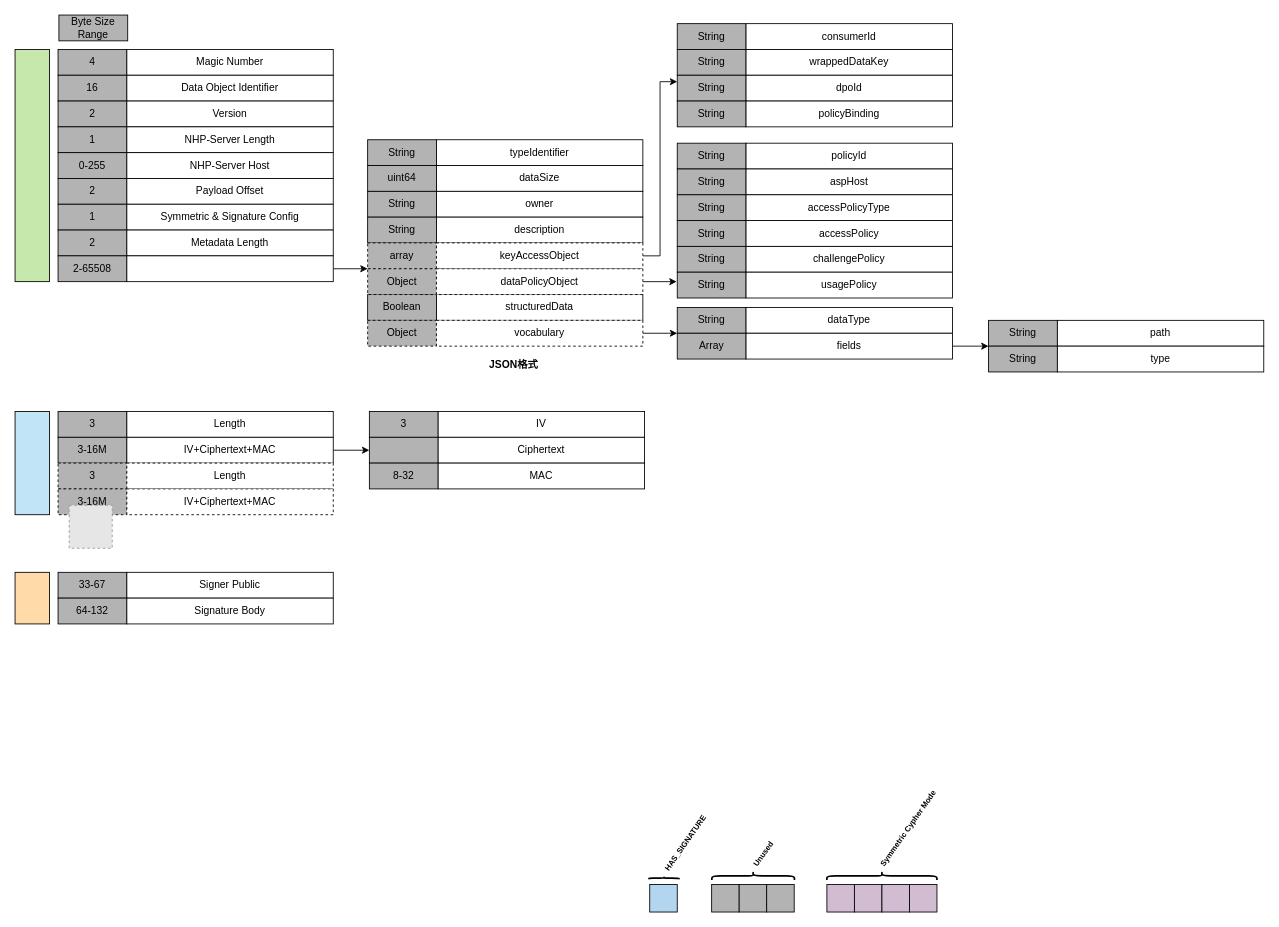
The diagram is 1279 pixels wide and 927 high, and some of its shapes have lost their labels. Grey dashed boxes stand in for pictures. Here are the shapes that lost their labels. From the top down, the centre of each, then its label:
[31,165]: Header
[229,268]: Metadata JSON Plaintext
[31,463]: Payload
[403,449]: 0-16M
[31,597]: Signature
